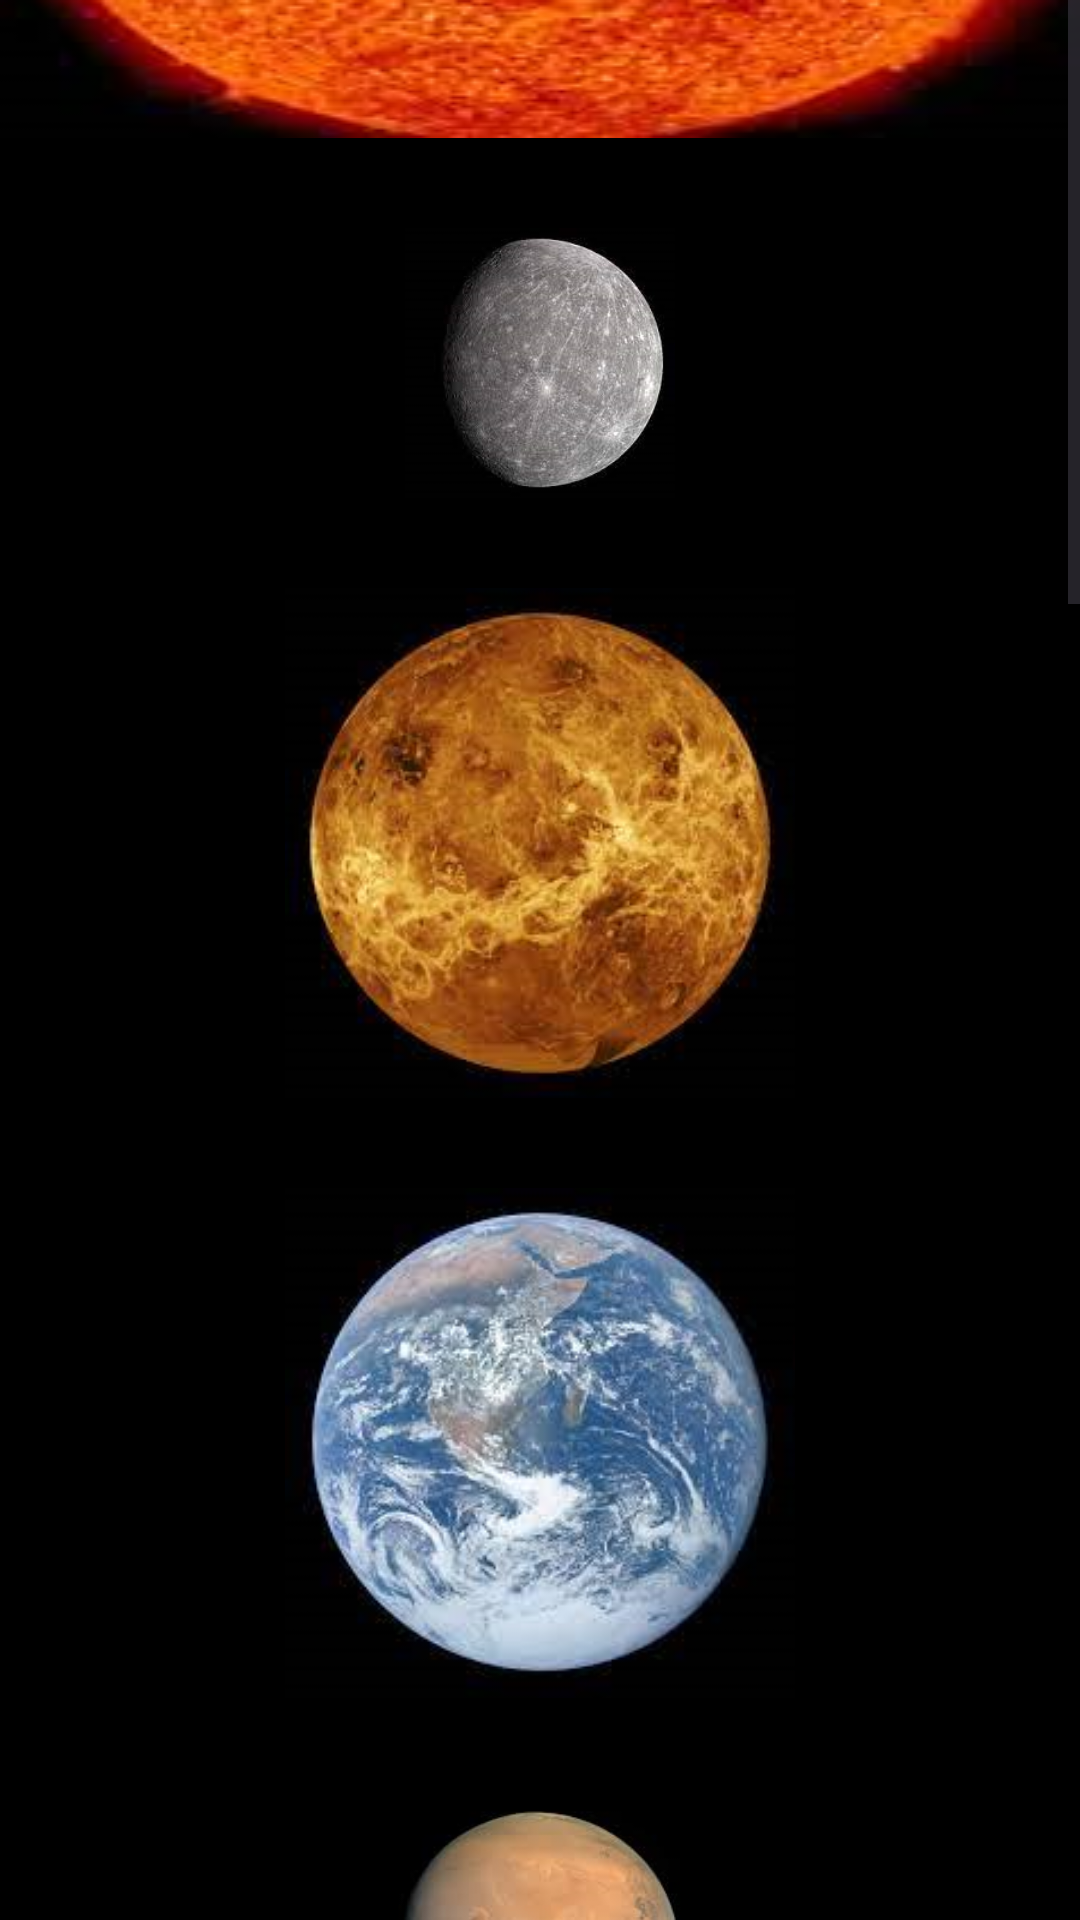

Locate icon controls on the screen. Image size 1080px×1920px, boxes as (x1,y1,x2,y2).
mercury description: (443,238,664,488)
